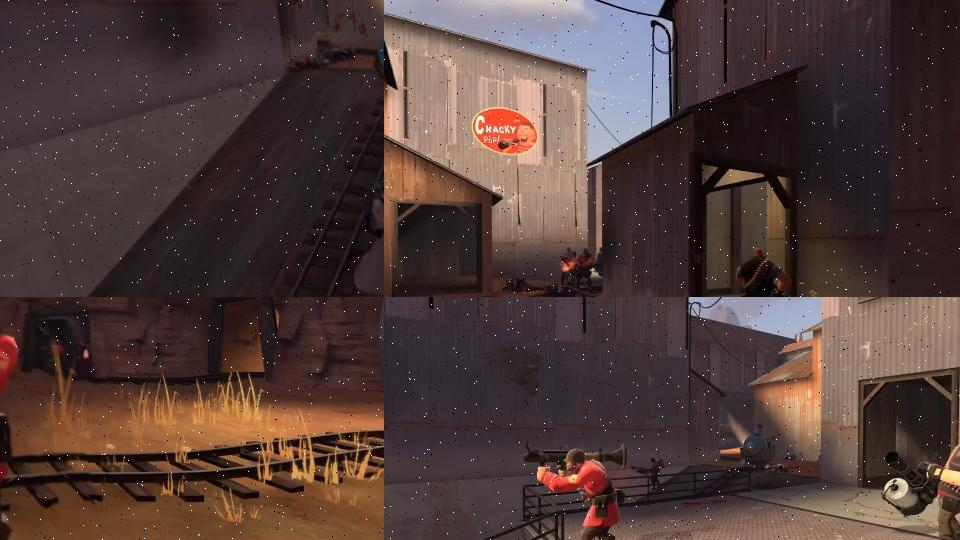Enemy: (523, 438, 629, 540), (879, 429, 960, 540), (352, 179, 384, 295), (734, 247, 792, 297), (630, 457, 666, 490), (572, 248, 595, 291), (560, 247, 578, 286)
